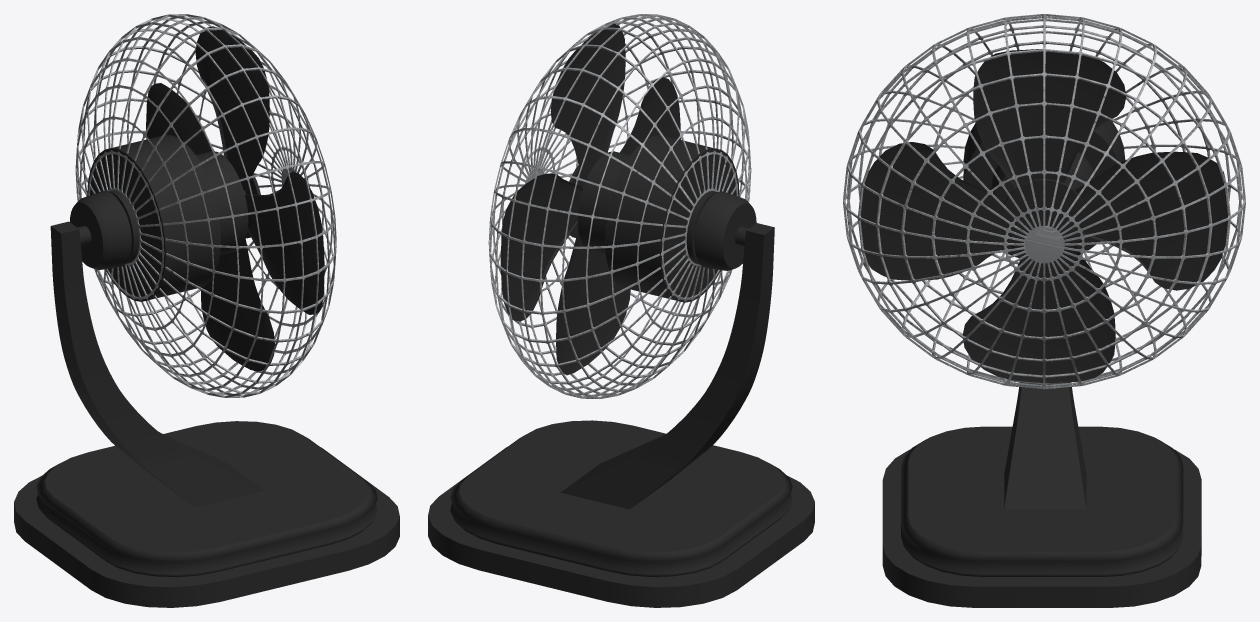
The model's file is Fan.glb.
3 renders of one model, left to right at view 1: azimuth 30°, elevation 25°; view 2: azimuth 150°, elevation 25°; view 3: azimuth 270°, elevation 25°, orthographic. The views are drawn at different scales.
Visible parts, largest first — view 1: Cube.016, Sphere, Circle.012, Cylinder, Cube.026, Cylinder.001; view 2: Cube.016, Sphere, Circle.012, Cylinder, Cube.026, Cylinder.001; view 3: Circle.012, Cube.016, Sphere, Cube.026, Cylinder.
Part boxes in pixels (<box>): Cube.016: <box>14,421,399,607</box>; Sphere: <box>75,14,336,397</box>; Circle.012: <box>146,26,324,371</box>; Cylinder: <box>87,134,260,301</box>; Cube.026: <box>50,221,264,507</box>; Cylinder.001: <box>70,190,139,269</box>; Cube.016: <box>428,420,814,607</box>; Sphere: <box>488,14,751,398</box>; Circle.012: <box>500,23,680,375</box>; Cylinder: <box>569,135,739,302</box>; Cube.026: <box>561,223,774,509</box>; Cylinder.001: <box>686,191,756,270</box>; Circle.012: <box>860,49,1227,383</box>; Cube.016: <box>882,426,1201,607</box>; Sphere: <box>843,14,1245,389</box>; Cube.026: <box>1004,382,1086,508</box>; Cylinder: <box>963,120,1125,257</box>.
Bounding box in the file's own units: 0.6239 × 0.9996 × 0.7095.
2 materials, 1 textured.
